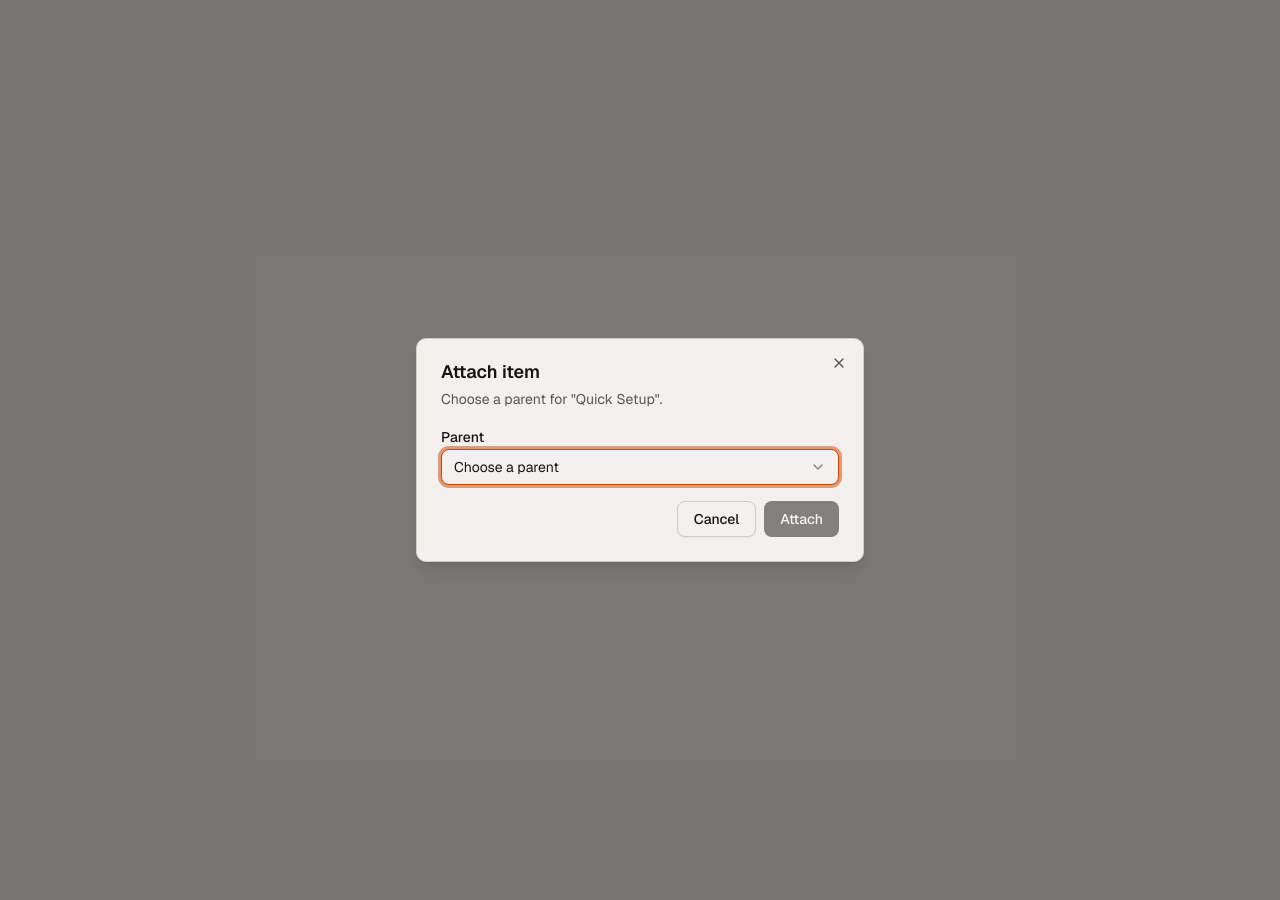
Test: AttachDialog — type-coherent parent candidates › lists categoria forks for an orphan service and excludes rubros
Click the dropdown labelled "parent" at (506, 467), box [441,449,839,485]
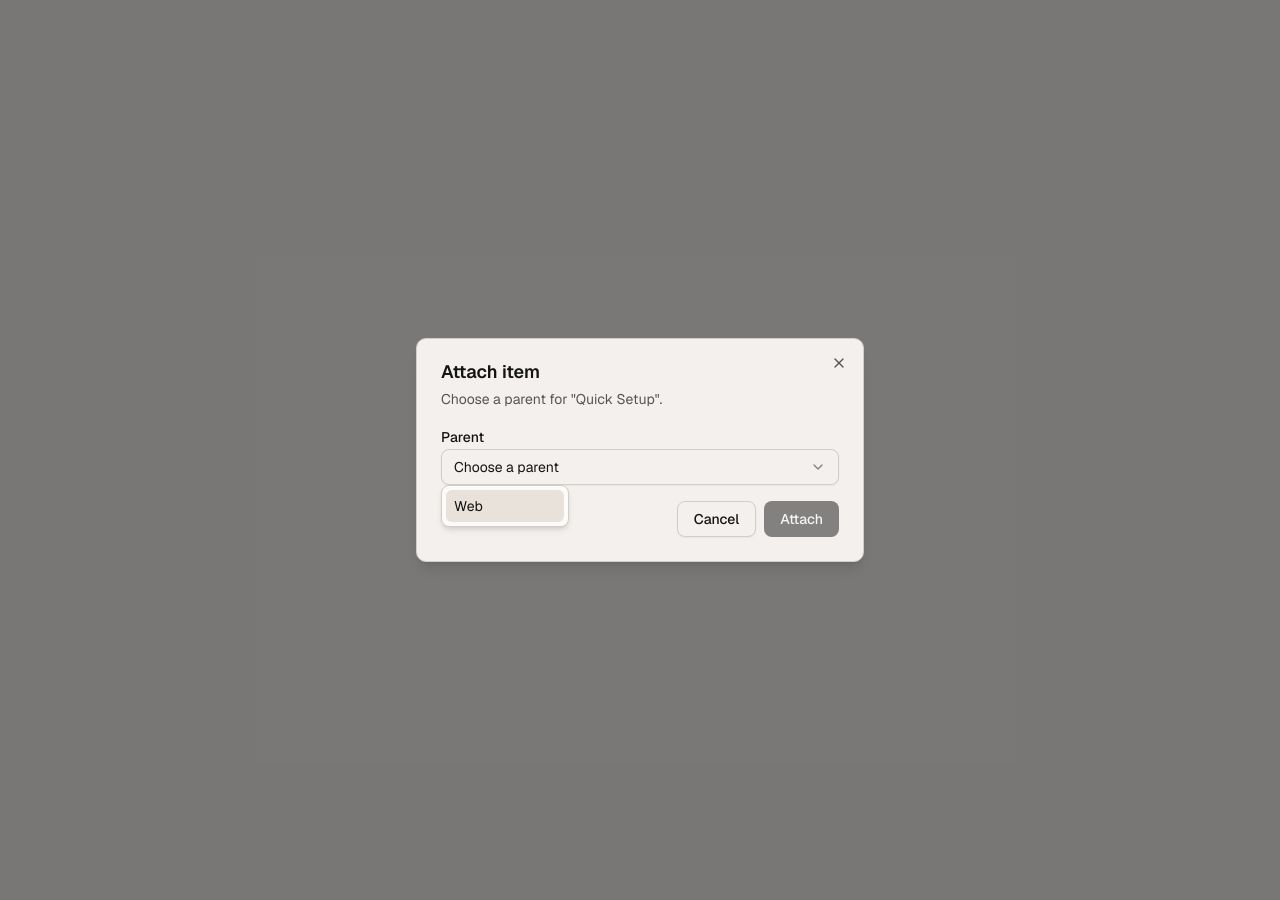
Check: the option "Web" is shown, box [446,490,564,522]
